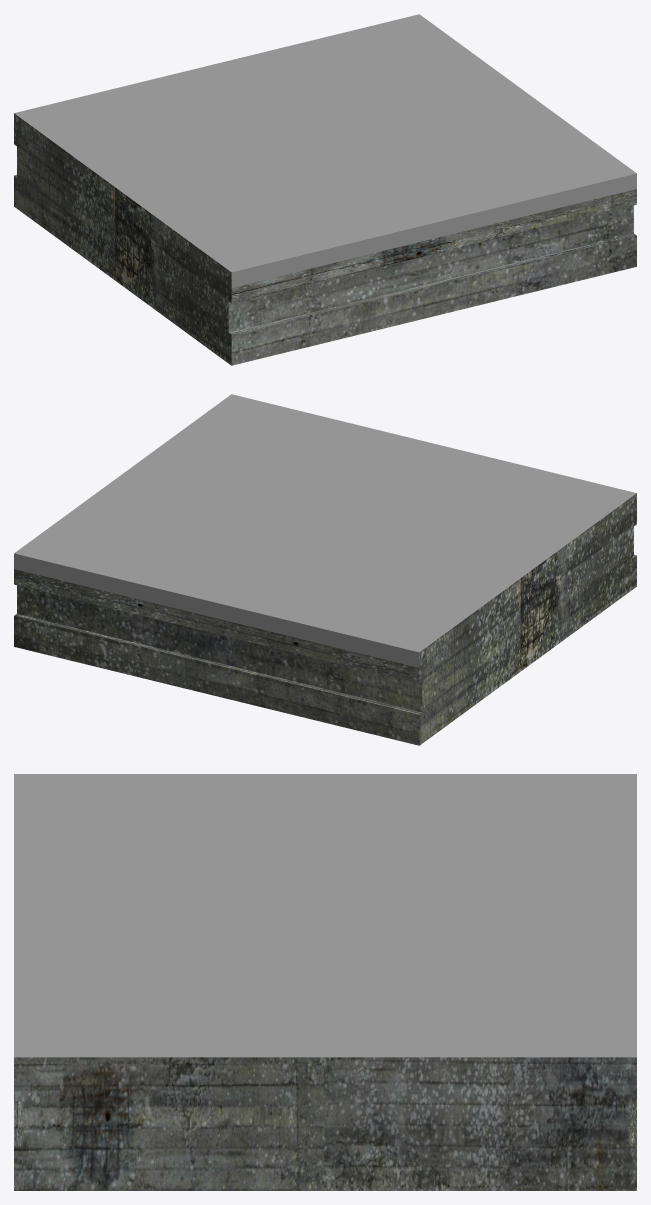
Rendered from plattform_center.fbx.
3 renders of one model, top to bottom at view 1: azimuth 30°, elevation 25°; view 2: azimuth 150°, elevation 25°; view 3: azimuth 270°, elevation 25°, orthographic. The views are drawn at different scales.
Visible parts, largest first — view 1: plattform_center; view 2: plattform_center; view 3: plattform_center.
Part boxes in pixels (x1,y1,x2,y2): plattform_center: [14, 14, 636, 365]; plattform_center: [14, 394, 636, 745]; plattform_center: [14, 774, 636, 1190].
Size of the model in its own units: 500 by 110 by 465.
